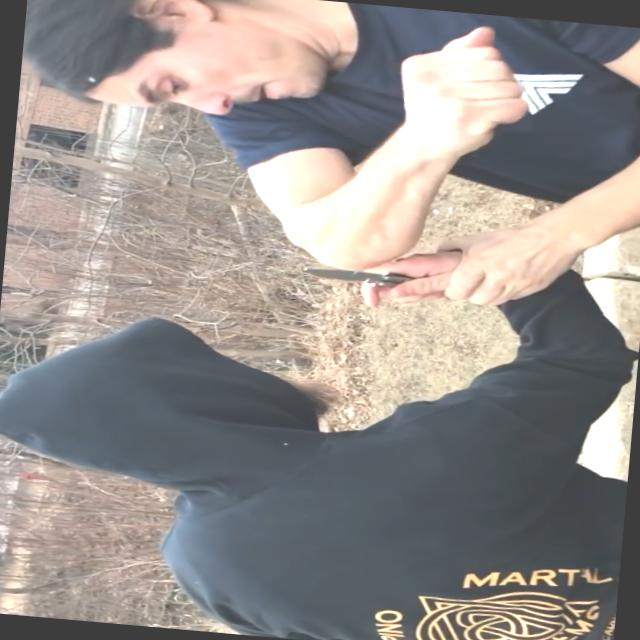knife: (283, 254, 443, 316)
